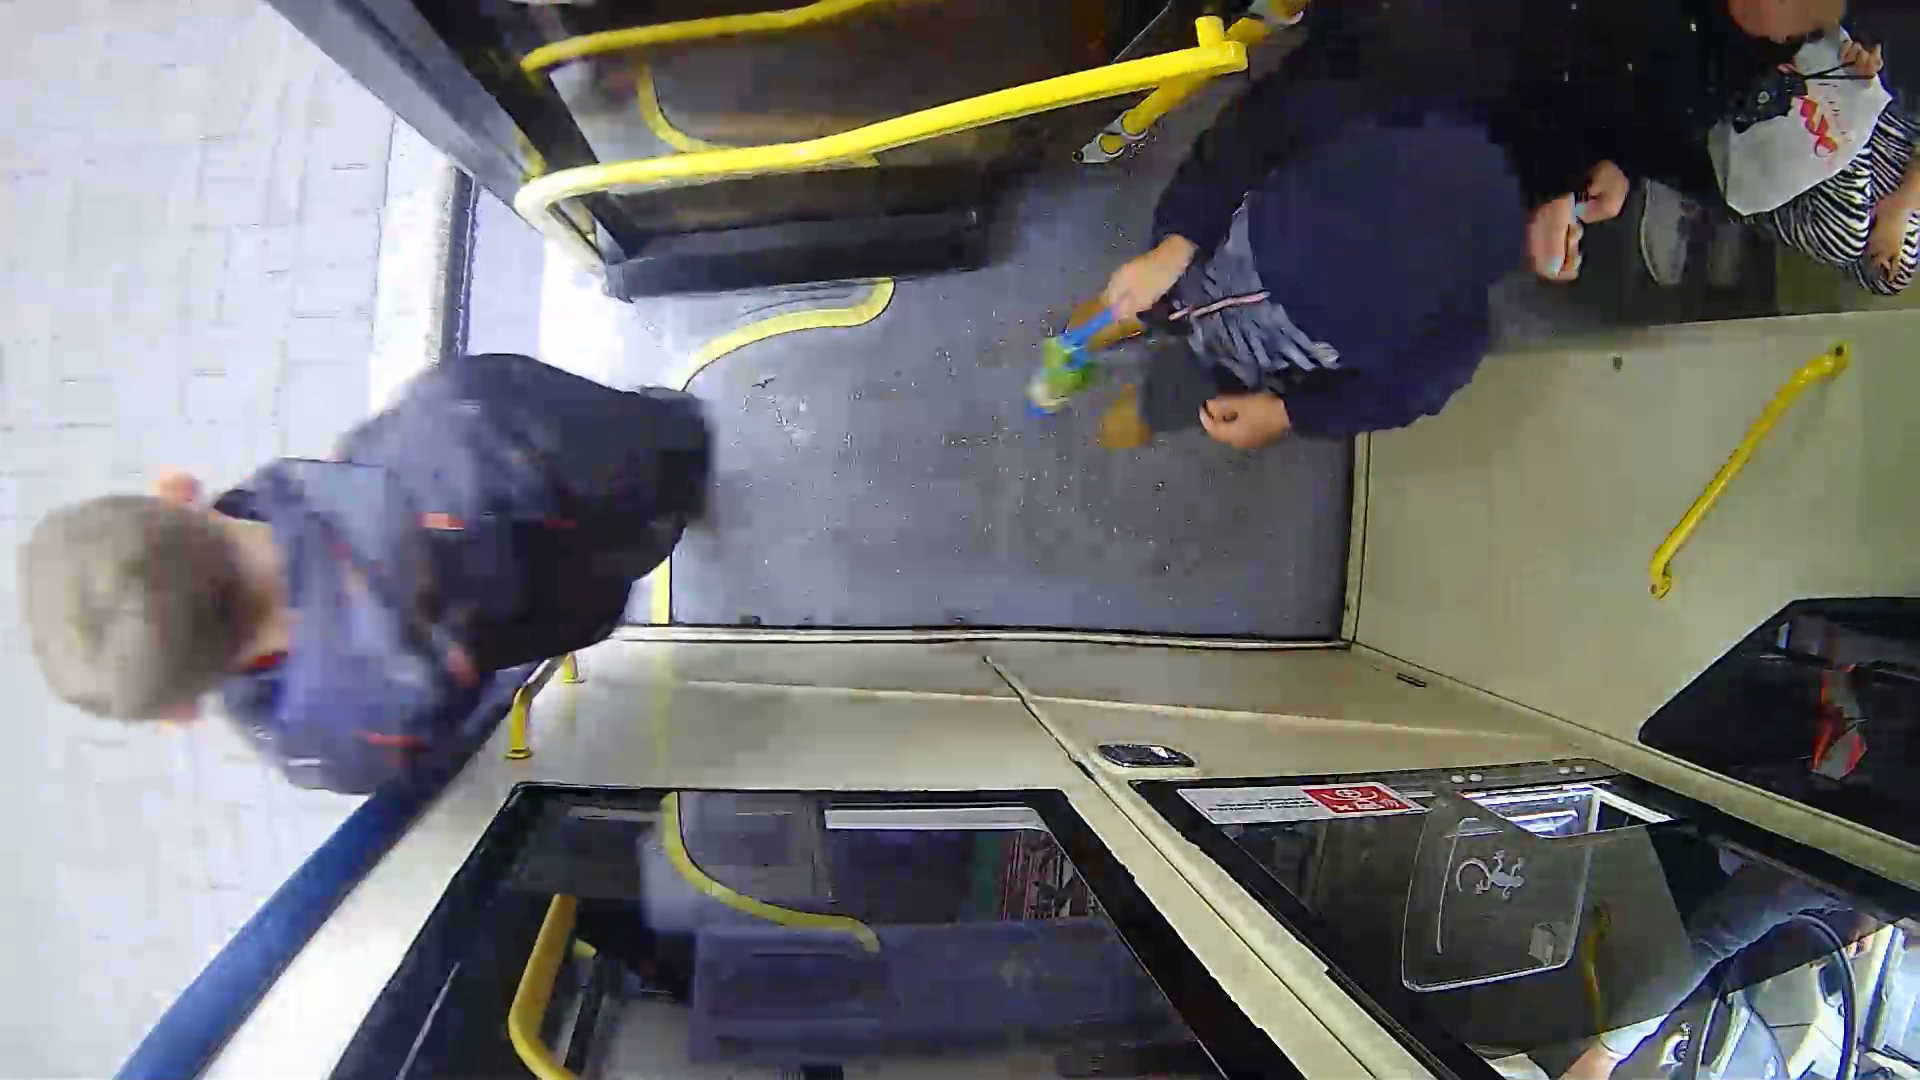person: (41, 313, 780, 854), (975, 87, 1713, 600)
